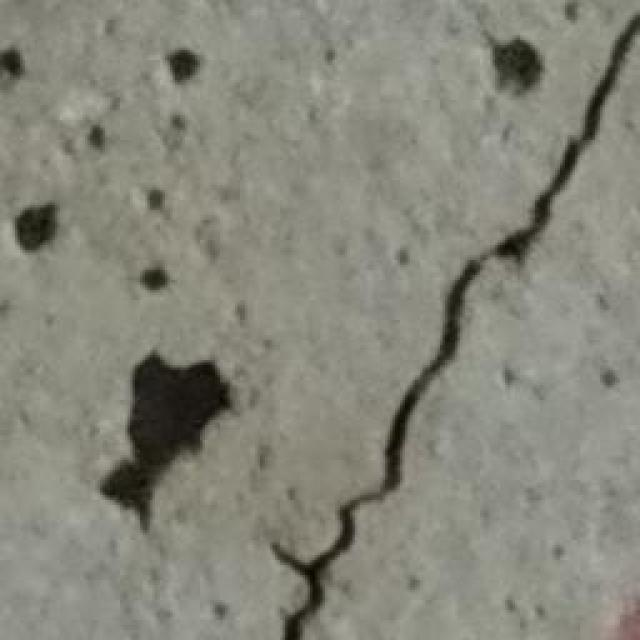Annular: (99, 340, 241, 529), (458, 38, 552, 112), (9, 190, 75, 253), (4, 39, 59, 94), (160, 42, 216, 85), (130, 260, 182, 298), (85, 116, 109, 156), (147, 180, 167, 214)
Radial: (258, 0, 640, 640)
